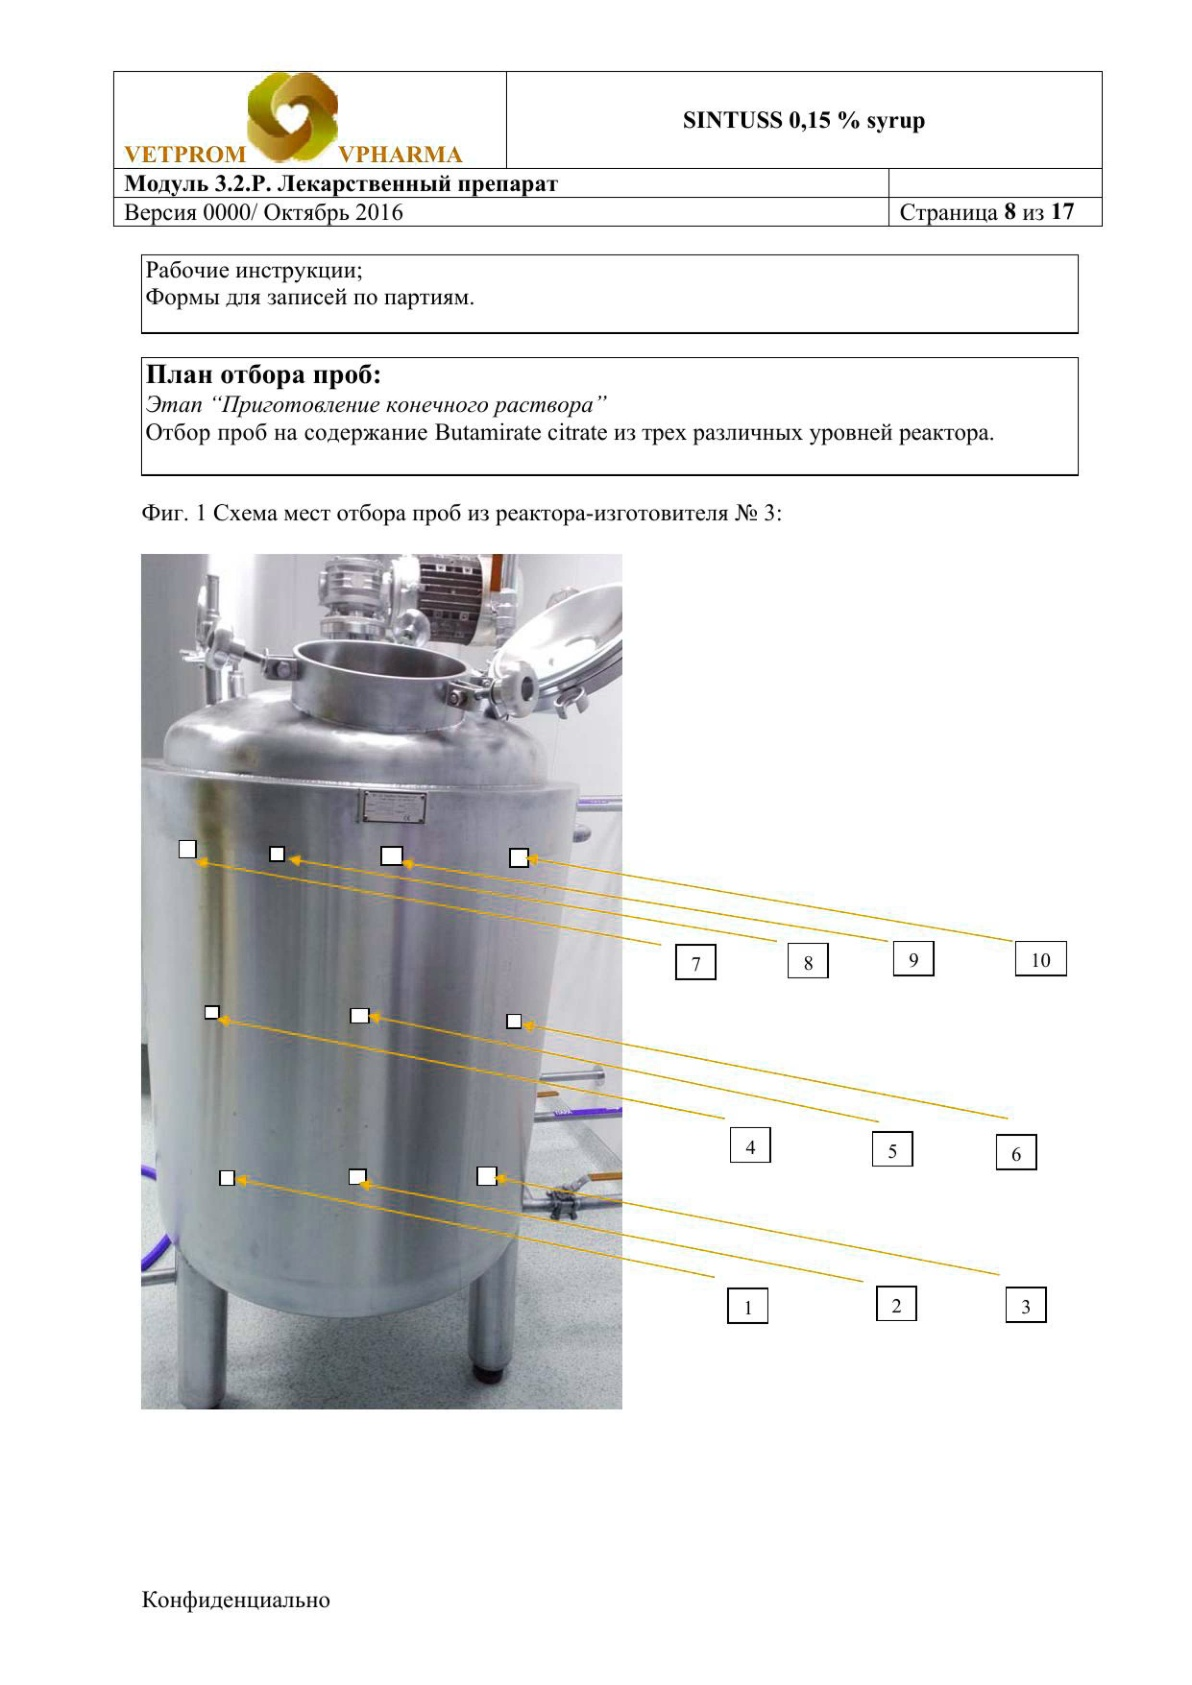merged_cells: (112, 70, 1103, 228)
